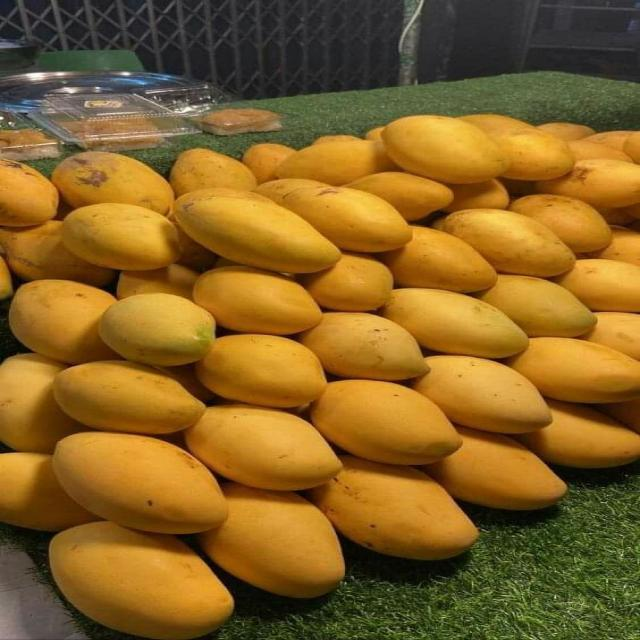mango: (49, 521, 233, 639), (305, 455, 478, 560), (53, 431, 227, 533), (197, 482, 344, 598), (185, 404, 340, 490), (310, 379, 461, 464), (174, 196, 340, 273), (420, 425, 566, 510), (53, 360, 204, 435), (412, 356, 549, 434), (381, 289, 527, 358), (195, 333, 326, 408), (438, 208, 575, 277), (9, 280, 120, 365), (298, 312, 427, 381), (194, 265, 321, 335), (506, 337, 639, 403), (384, 115, 510, 184), (100, 293, 214, 367), (515, 400, 639, 468), (284, 187, 411, 253), (61, 203, 180, 270), (379, 225, 496, 293), (474, 275, 597, 338), (52, 152, 174, 214), (508, 194, 610, 254), (298, 252, 391, 312), (536, 160, 639, 210), (347, 172, 453, 220), (551, 259, 639, 312), (494, 128, 574, 180), (169, 148, 256, 195), (0, 159, 58, 226), (581, 312, 639, 360)
